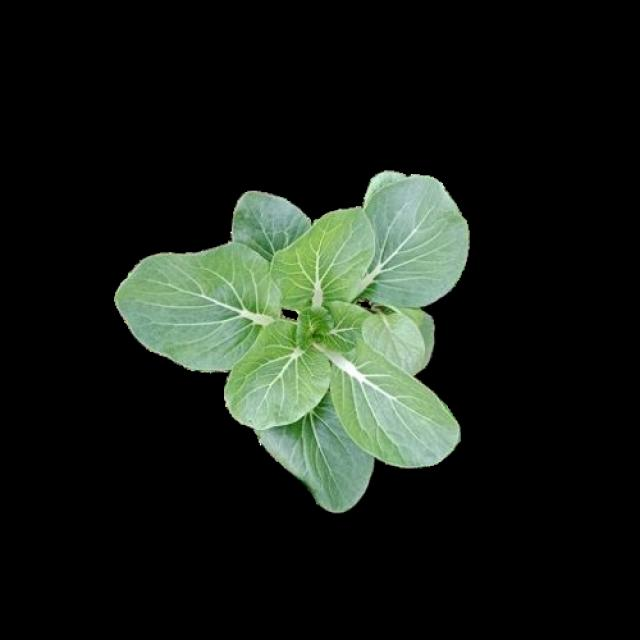healthy: (118, 179, 464, 511)
mature: (115, 177, 462, 508)
